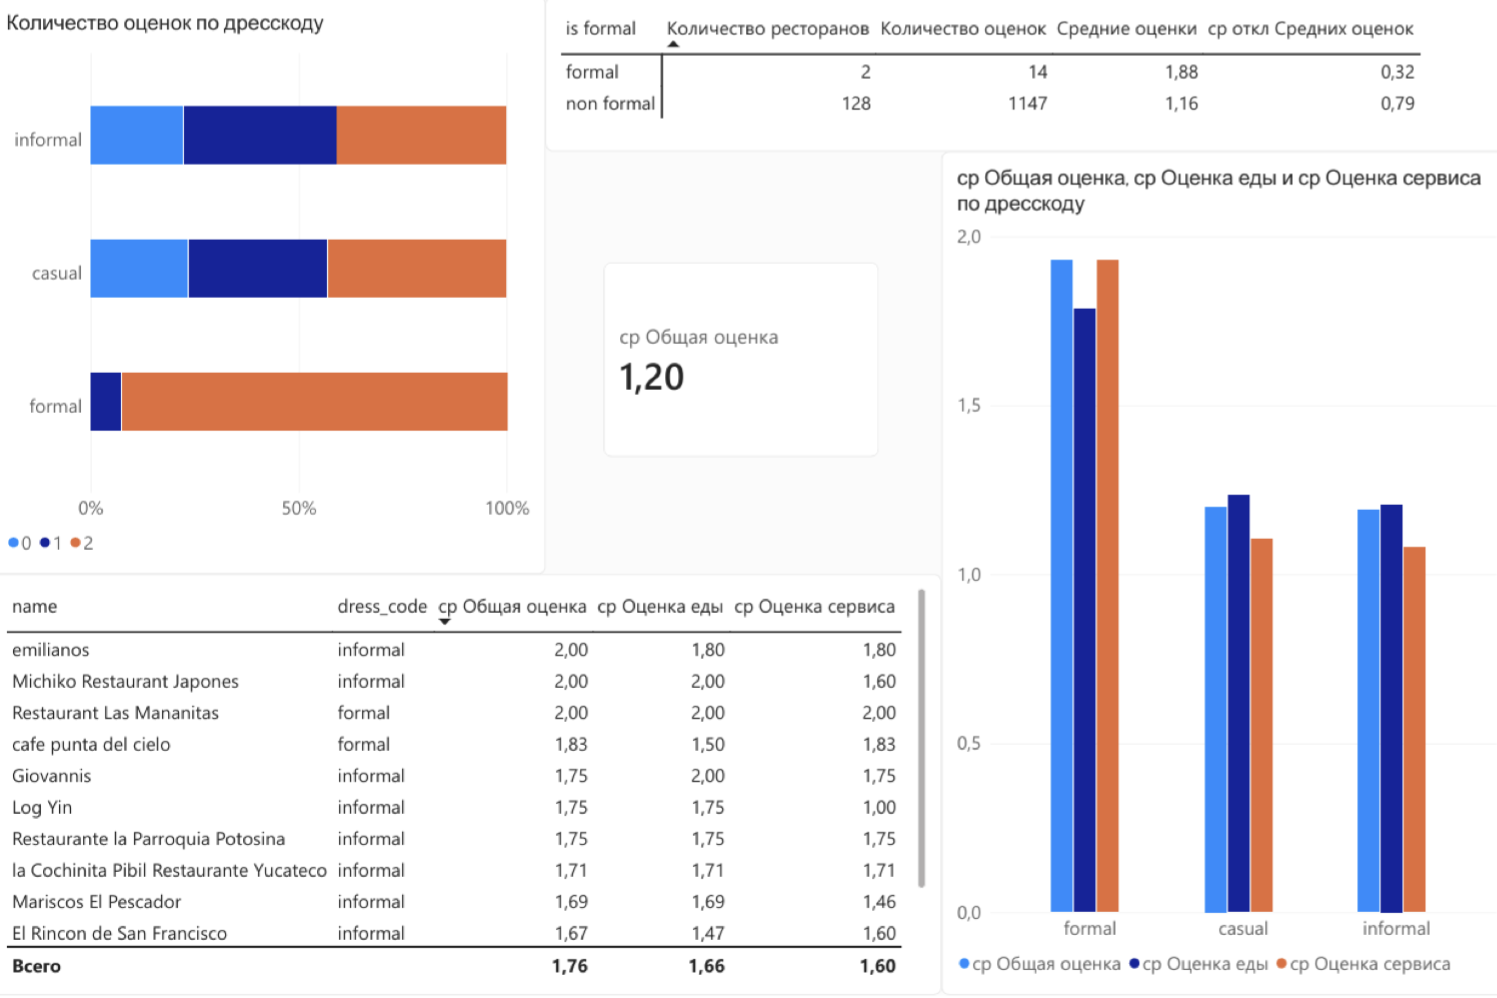

The dashboard page shown, as its layout file describes it:
{"tool":"powerbi","page":{"name":"Гипотеза 1 (дресс-код)","canvas":[1920,1080],"ordinal":0},"visuals":[{"type":"clusteredColumnChart","title":"ср Общая оценка, ср Оценка еды и ср Оценка сервиса по дресскоду","fields":{"Category":["geoplaces2.dress_code"],"Y":["Таблица мер.ср Общая оценка","Таблица мер.ср Оценка еды","Таблица мер.ср Оценка сервиса"]},"box":[1027.5,167.5,617.5,912.5],"z":0},{"type":"hundredPercentStackedBarChart","title":"Количество оценок по дресскоду","fields":{"Category":["geoplaces2.dress_code"],"Series":["rating_final.rating"],"Y":["Divide(Таблица мер.Количество оценок, ScopedEval(Таблица мер.Количество оценок, []))"]},"box":[0,0,600,625],"z":1000},{"type":"tableEx","fields":{"Values":["geoplaces2.name","geoplaces2.dress_code","Таблица мер.Средняя оценка","Таблица мер.ср Оценка еды","Таблица мер.ср Оценка сервиса"]},"box":[0,625,1027.5,455],"z":2000},{"type":"pivotTable","fields":{"Rows":["geoplaces2.is formal"],"Values":["Таблица мер.Количество ресторанов","Таблица мер.Количество оценок","Таблица мер.Средние оценки","Таблица мер.ср откл Средних оценок"]},"box":[600,0,1045,167.5],"z":3000},{"type":"cardVisual","fields":{"Data":["Таблица мер.ср Общая оценка"]},"box":[662.5,287.5,297.5,210],"z":4000}]}

Visuals, with their boxes on the page's 1920x1080 design canvas (x1, y1, x2, y2). These are canvas units, not pixel positions in the 1497x998 screenshot, which may show the page scaled, cropped or inside an application window:
"ср Общая оценка, ср Оценка еды и ср Оценка сервиса по дресскоду" clusteredColumnChart: <bbox>1028, 168, 1645, 1080</bbox>
"Количество оценок по дресскоду" hundredPercentStackedBarChart: <bbox>0, 0, 600, 625</bbox>
tableEx - geoplaces2.name x geoplaces2.dress_code: <bbox>0, 625, 1028, 1080</bbox>
pivotTable - geoplaces2.is formal x Таблица мер.Количество ресторанов: <bbox>600, 0, 1645, 168</bbox>
cardVisual - Таблица мер.ср Общая оценка: <bbox>662, 288, 960, 498</bbox>
